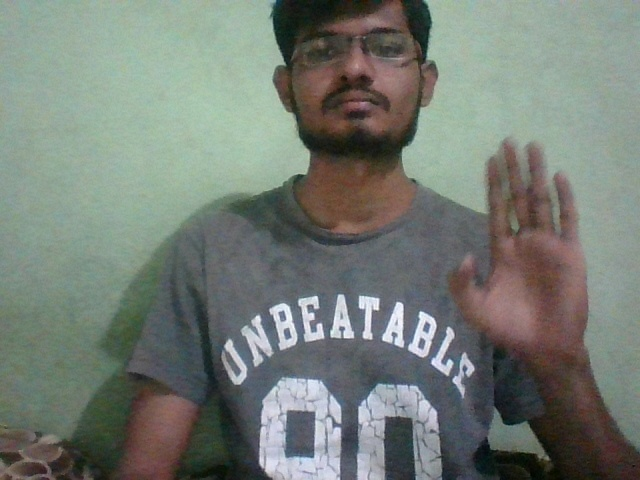Hello: (457, 137, 595, 350)
